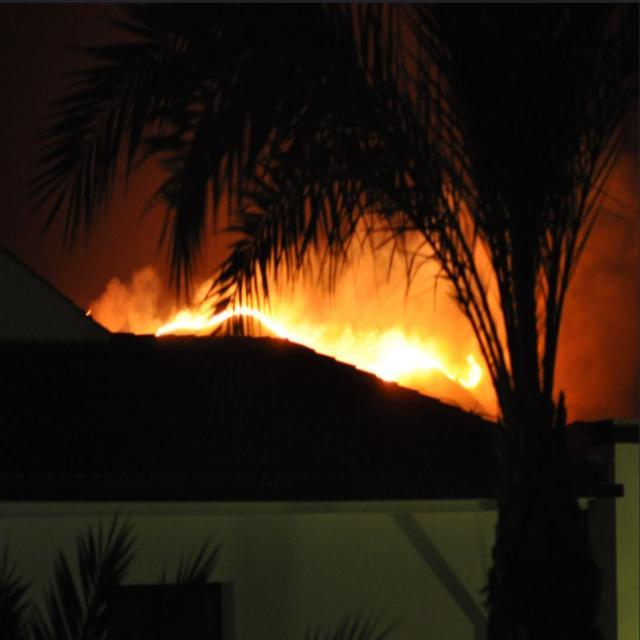Fire: (156, 298, 484, 389)
Smoke: (87, 255, 159, 338)
